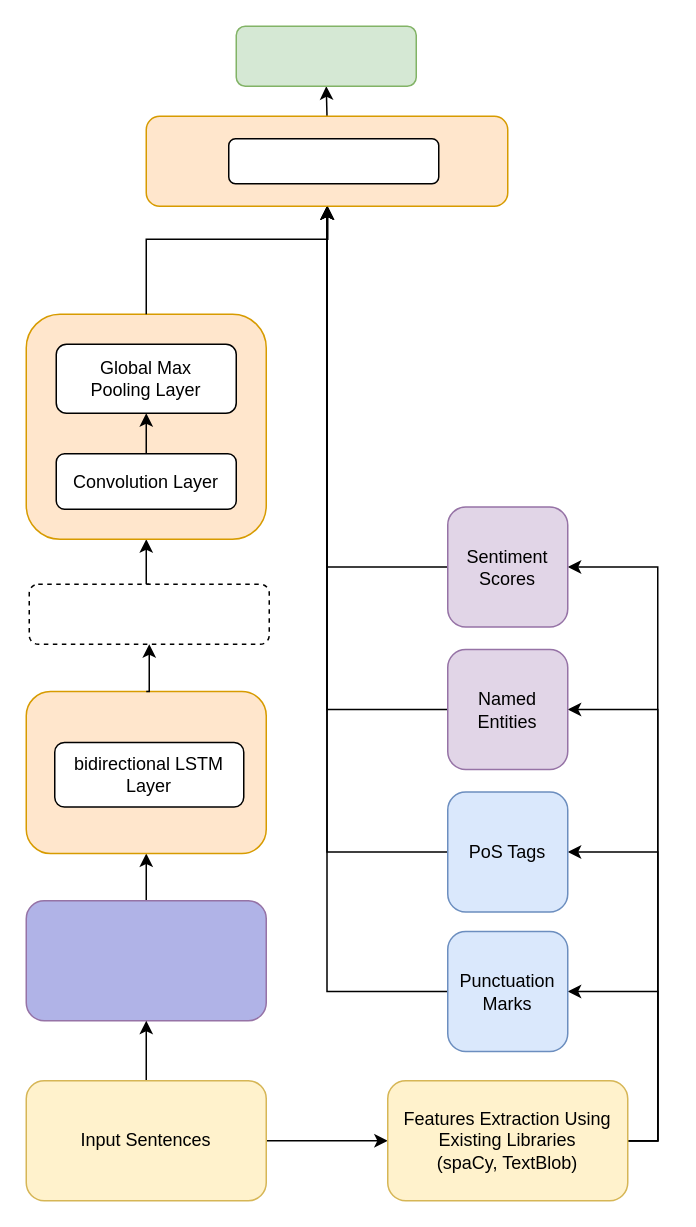
This 696x1227 diagram has some shape labels left out. The box of each missing label's shape, as (x1, y1, x2, y2) in pixels:
Dropout Layer: (28, 583, 269, 644)
Fully Connected Layer with Dropout: (227, 137, 439, 184)
Softmax: (235, 25, 416, 86)
Word Embeddings through Elmo: (25, 899, 266, 1021)
